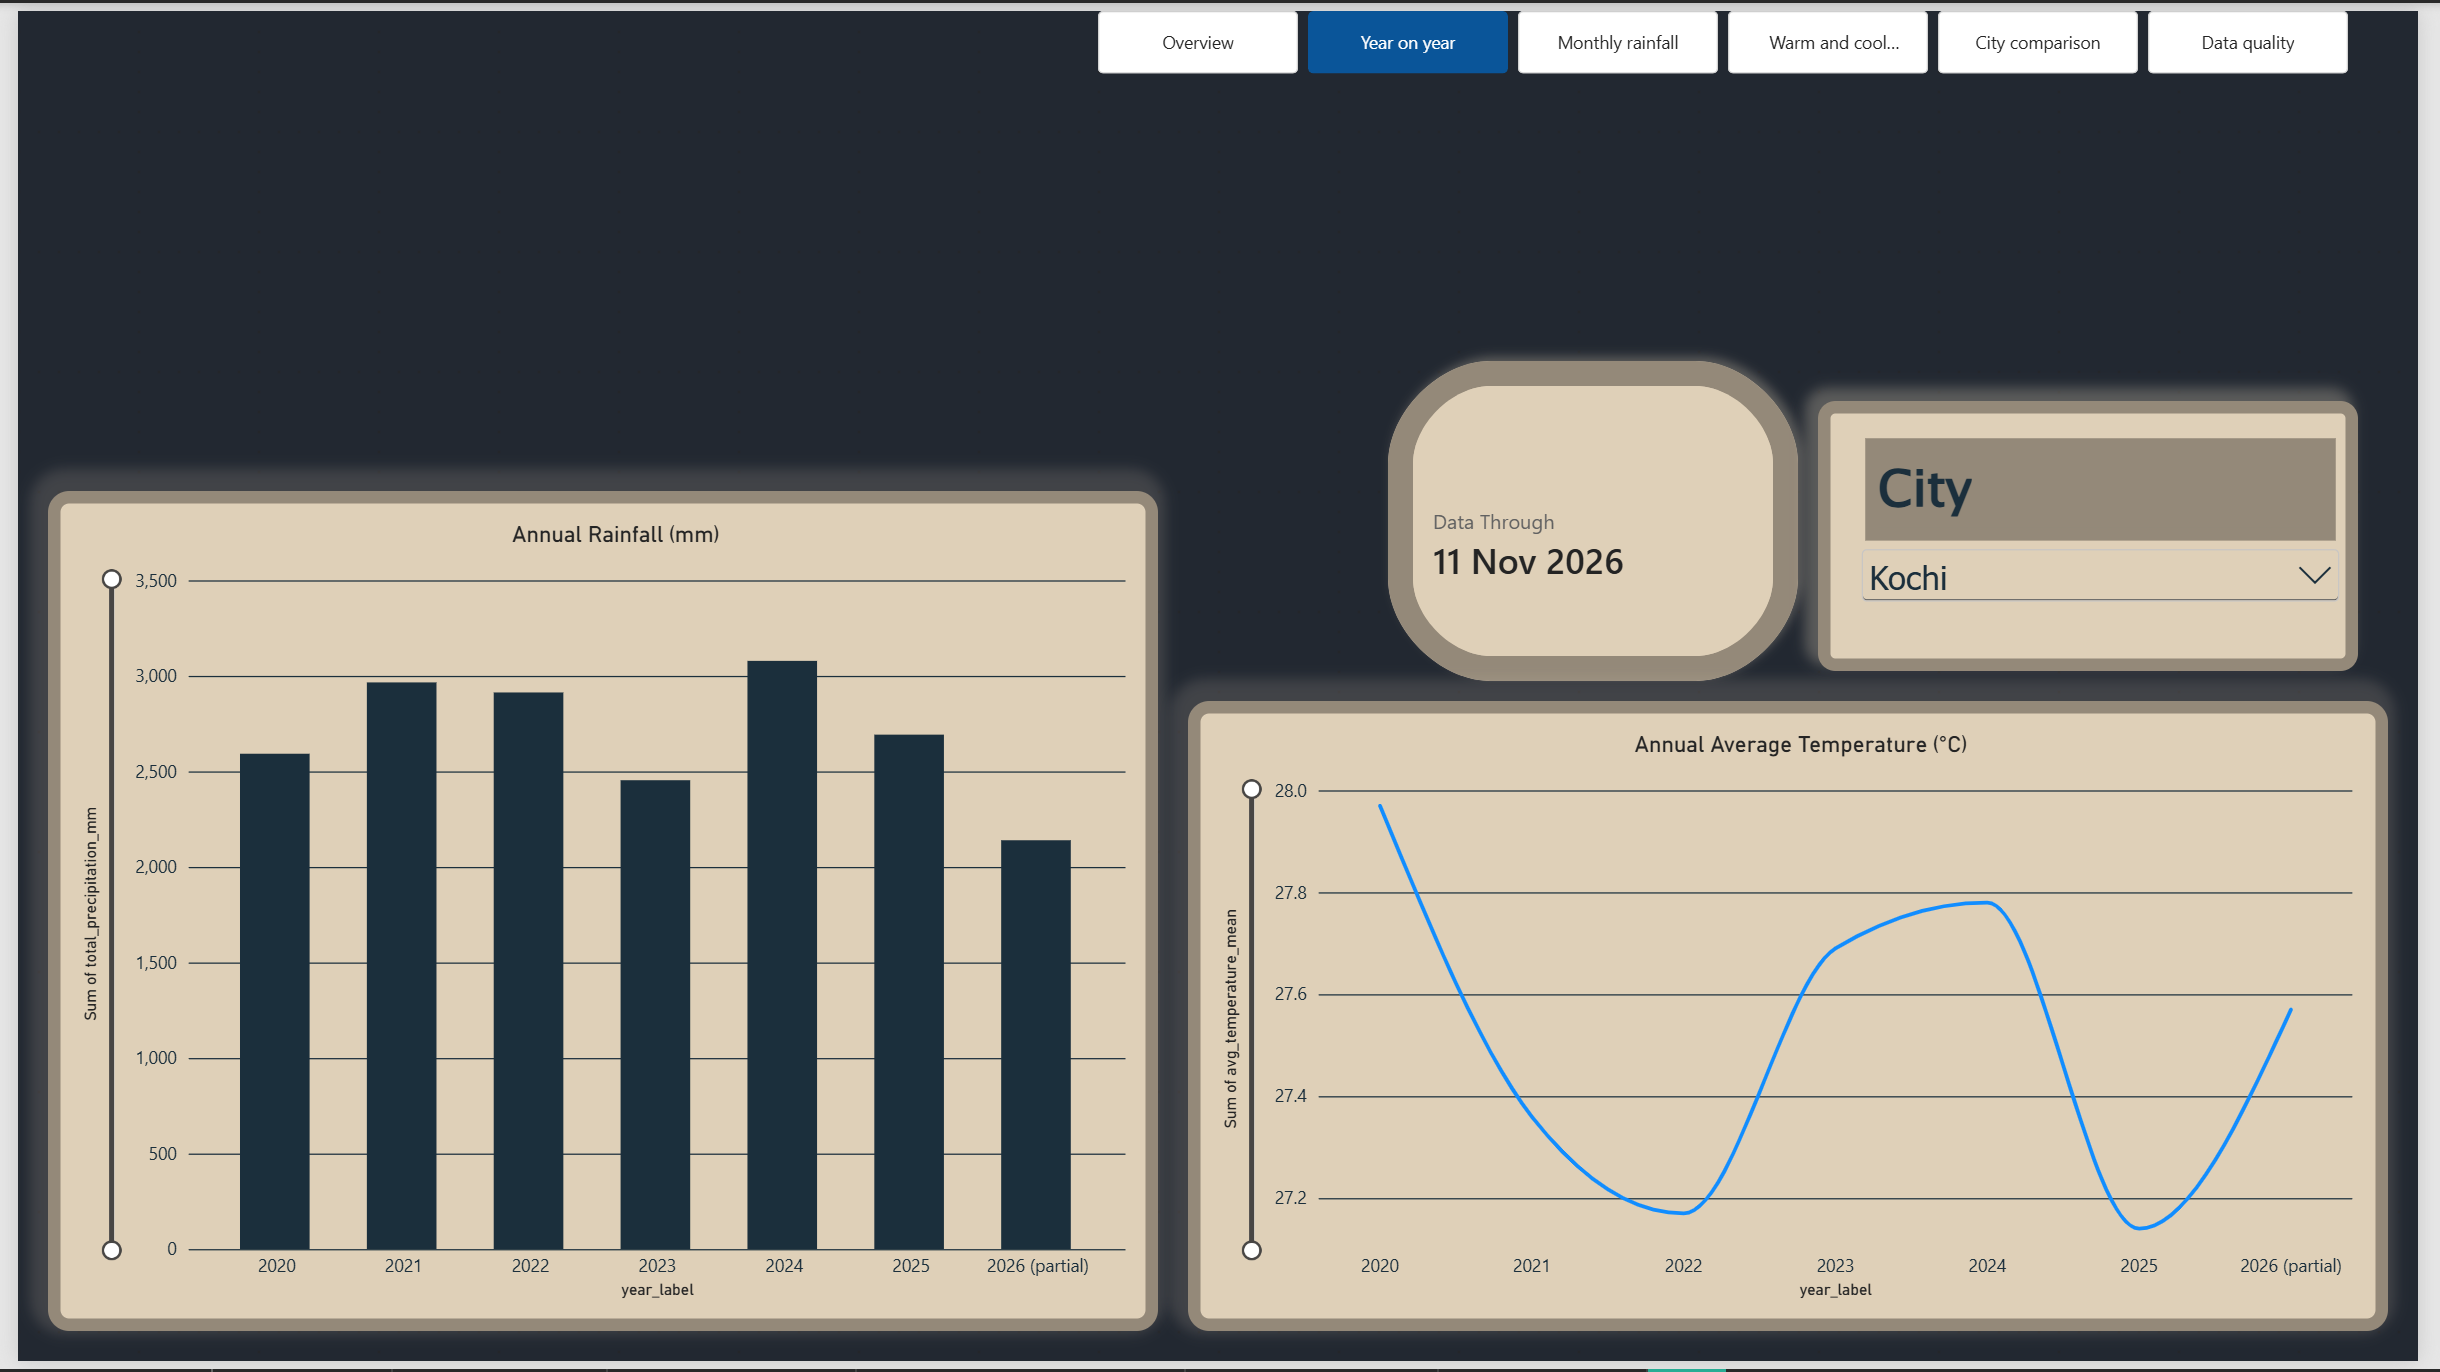

What the dashboard file says about the page in this screenshot:
{"tool":"powerbi","page":{"name":"Year on year","canvas":[1920,1080],"ordinal":1},"visuals":[{"type":"cardVisual","fields":{"Data":["fact_daily_weather.Data Through"]},"box":[1080,264,360,288],"z":0},{"type":"columnChart","title":"Annual Rainfall (mm)","fields":{"Category":["vw_annual_weather_summary.year_label"],"Y":["Sum(vw_annual_weather_summary.total_precipitation_mm)"]},"box":[24,384,888,672],"z":1000},{"type":"lineChart","title":"Annual Average Temperature (°C)","fields":{"Category":["vw_annual_weather_summary.year_label"],"Y":["Sum(vw_annual_weather_summary.avg_temperature_mean)"]},"box":[936,552,960,504],"z":2000},{"type":"slicer","fields":{"Values":["dim_city.city"]},"box":[1440,312,432,216],"z":3000},{"type":"pageNavigator","box":[864,0,1000,50],"z":4000}]}

Visuals, with their boxes on the page's 1920x1080 design canvas (x1, y1, x2, y2). These are canvas units, not pixel positions in the 2440x1372 screenshot, which may show the page scaled, cropped or inside an application window:
cardVisual - fact_daily_weather.Data Through: x1=1080 y1=264 x2=1440 y2=552
"Annual Rainfall (mm)" columnChart: x1=24 y1=384 x2=912 y2=1056
"Annual Average Temperature (°C)" lineChart: x1=936 y1=552 x2=1896 y2=1056
slicer - dim_city.city: x1=1440 y1=312 x2=1872 y2=528
pageNavigator: x1=864 y1=0 x2=1864 y2=50
